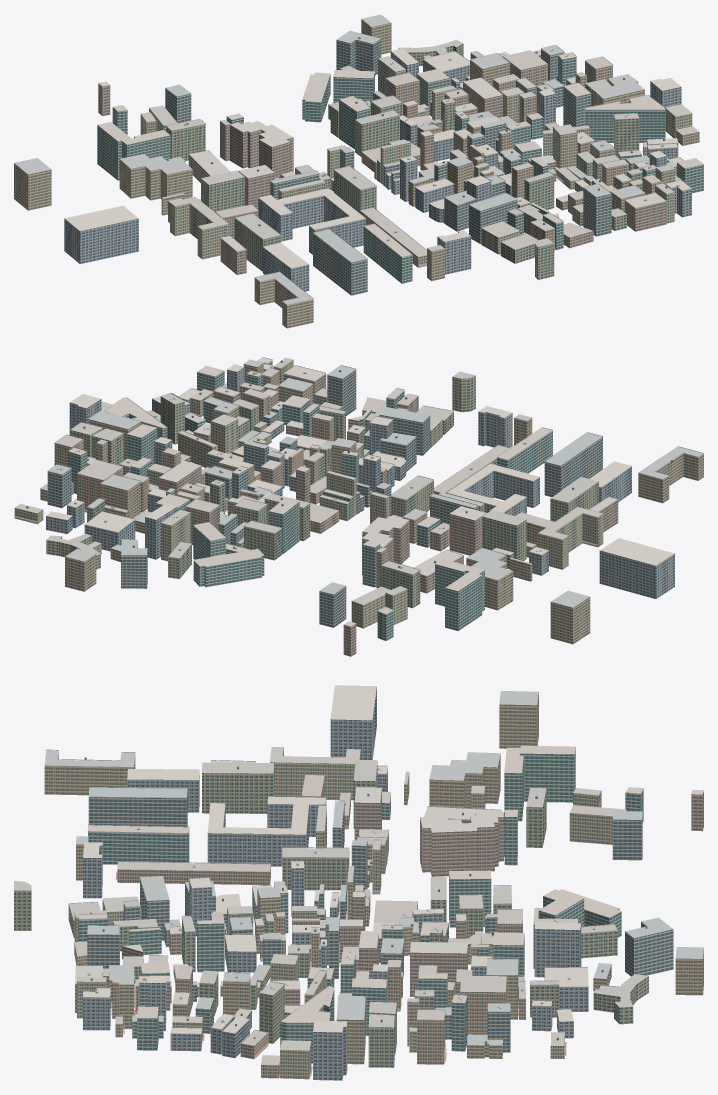
The picture shows the model from 3 angles, top to bottom: view 1: azimuth 30°, elevation 25°; view 2: azimuth 150°, elevation 25°; view 3: azimuth 270°, elevation 25°; orthographic projection. The views are drawn at different scales.
Parts seen in each view (by area): view 1: Station 14 surrounding real OSM building footprints; view 2: Station 14 surrounding real OSM building footprints; view 3: Station 14 surrounding real OSM building footprints.
Boxes of the visible parts, x1,y1,x2,y2 form: Station 14 surrounding real OSM building footprints: [14, 14, 703, 328]; Station 14 surrounding real OSM building footprints: [14, 357, 703, 656]; Station 14 surrounding real OSM building footprints: [14, 685, 703, 1080].
Size of the model in its own units: 683 by 44.8 by 560.
25 materials, 8 textured.
